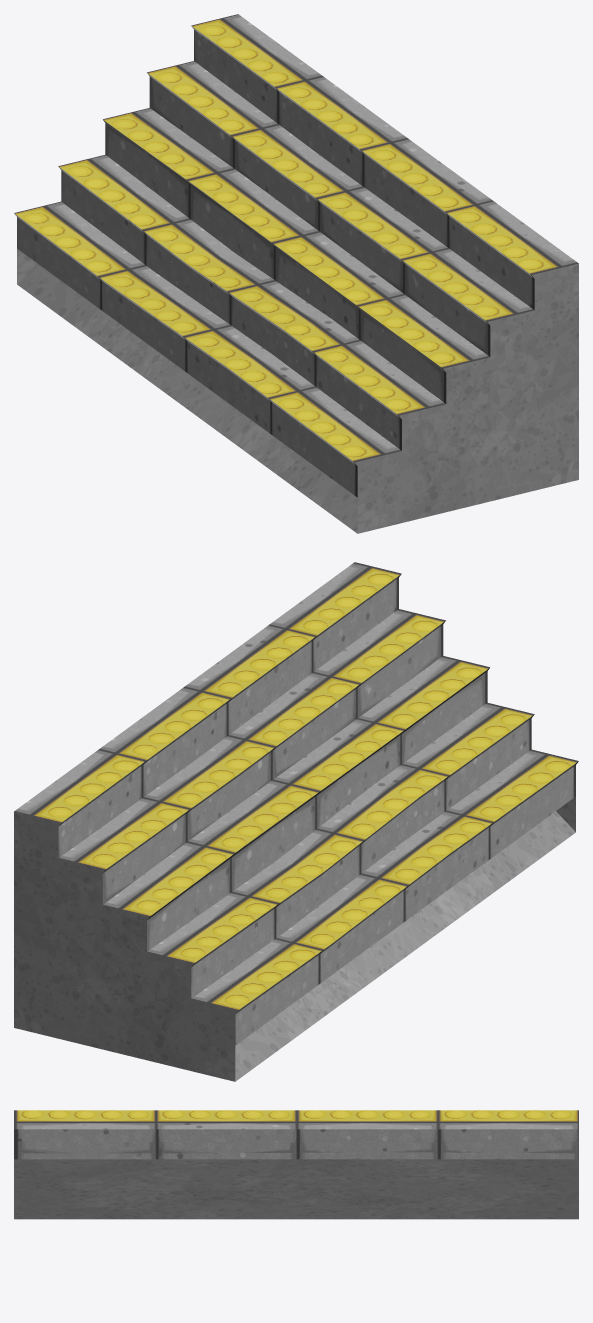
Rendered from SM_Steps_Short.fbx.
The picture shows the model from 3 angles, top to bottom: view 1: azimuth 30°, elevation 25°; view 2: azimuth 150°, elevation 25°; view 3: azimuth 270°, elevation 25°; orthographic projection. The views are drawn at different scales.
Parts seen in each view (by area): view 1: SM_Steps_Short, SM_Wall_Steps_Short_R; view 2: SM_Steps_Short, SM_Wall_Steps_Short_L; view 3: SM_Steps_Short.
Part boxes in pixels (x1,y1,x2,y2): SM_Steps_Short: (14, 14, 578, 533); SM_Wall_Steps_Short_R: (358, 300, 578, 533); SM_Steps_Short: (14, 562, 578, 1081); SM_Wall_Steps_Short_L: (14, 848, 234, 1081); SM_Steps_Short: (14, 1110, 578, 1219).
Bounding box in the file's own units: 152 × 140 × 400.
